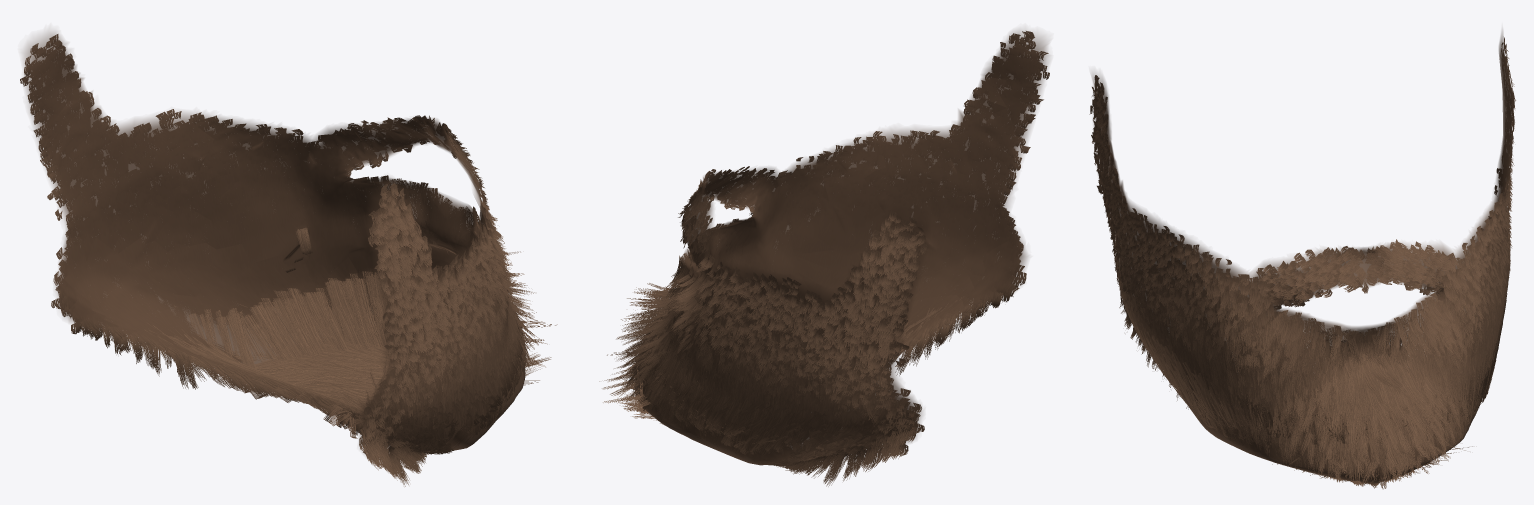
Rendered from beard-m4-tapered.glb.
3 views of the same model, side by side, from view 1: azimuth 30°, elevation 25°; view 2: azimuth 150°, elevation 25°; view 3: azimuth 270°, elevation 25° (orthographic). The views are drawn at different scales.
Visible parts, largest first — view 1: Beard_m4_tapered_root, Beard_m4_tapered_cards; view 2: Beard_m4_tapered_cards, Beard_m4_tapered_root; view 3: Beard_m4_tapered_cards, Beard_m4_tapered_root.
Part boxes in pixels (bbox=[...]): Beard_m4_tapered_root: bbox=[22, 31, 525, 451]; Beard_m4_tapered_cards: bbox=[20, 34, 557, 486]; Beard_m4_tapered_cards: bbox=[599, 31, 1049, 486]; Beard_m4_tapered_root: bbox=[634, 30, 1049, 465]; Beard_m4_tapered_cards: bbox=[1089, 37, 1515, 489]; Beard_m4_tapered_root: bbox=[1091, 30, 1512, 483].
Size of the model in its own units: 0.1669 by 0.1463 by 0.1624.
Materials: 2 (1 with a texture image).
